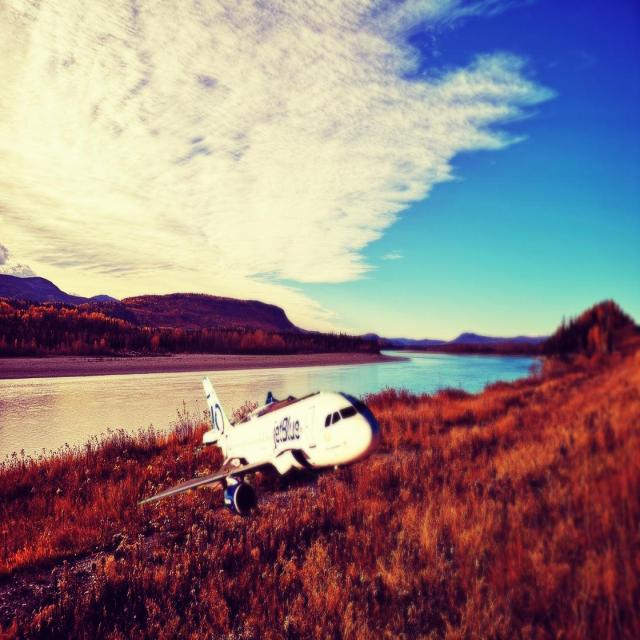airplane: (136, 375, 381, 516)
